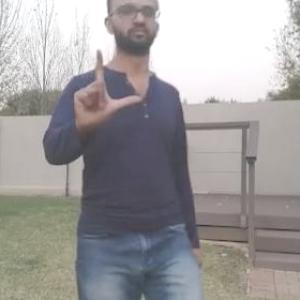land_hand: (72, 43, 146, 133)
